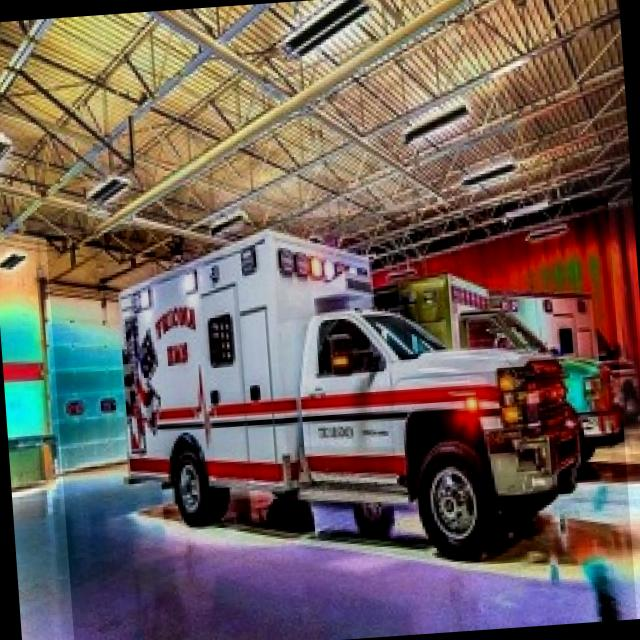ambulance: (45, 197, 636, 640)
